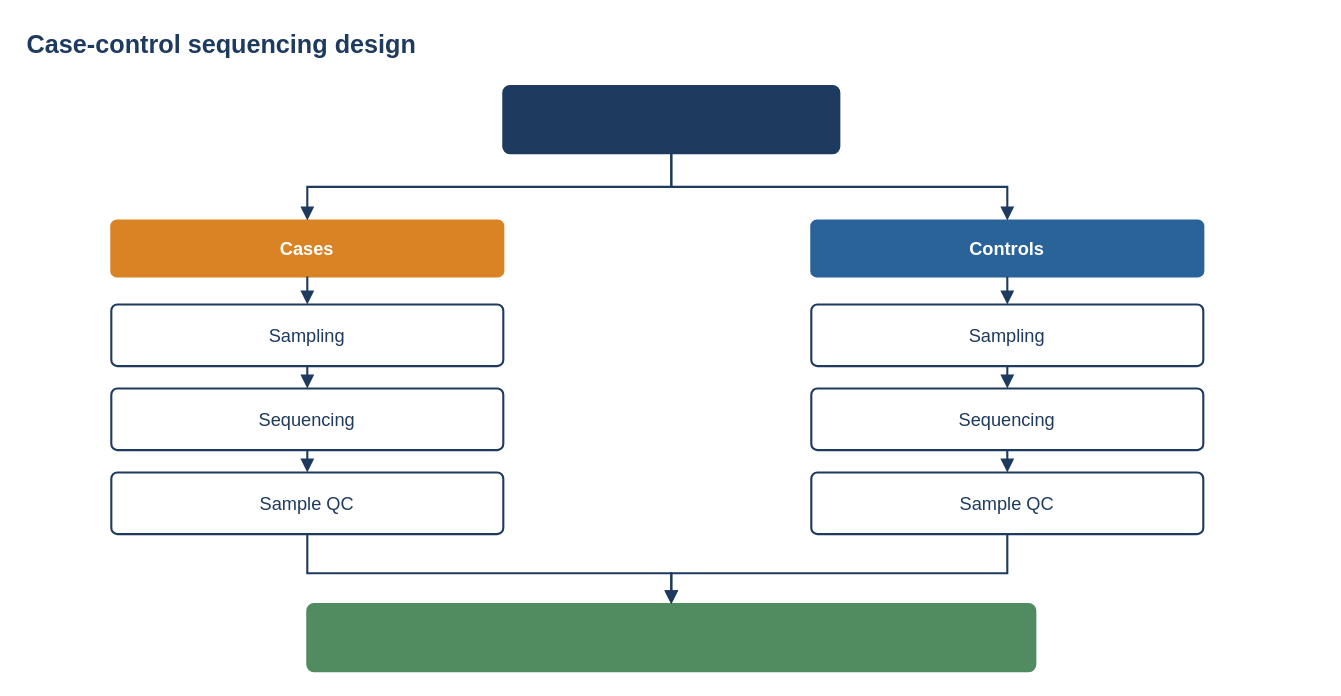
This 1341x696 diagram has some shape labels left out. Each missing label, with the centre of its shape:
Joint alignment and association: (671,637)
Study cohort: (671,119)
